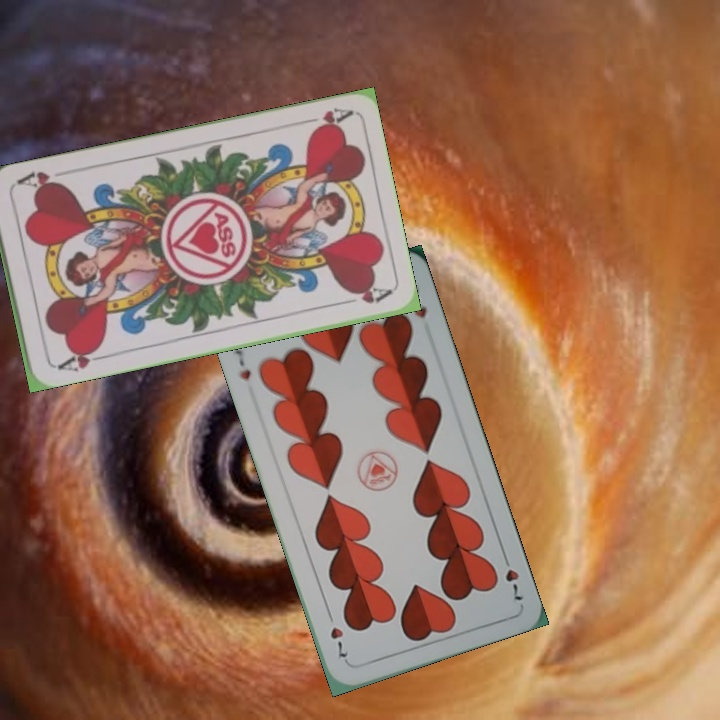H7: (498, 548, 526, 605), (231, 345, 254, 383)
HA: (49, 342, 108, 375), (294, 103, 353, 134)
